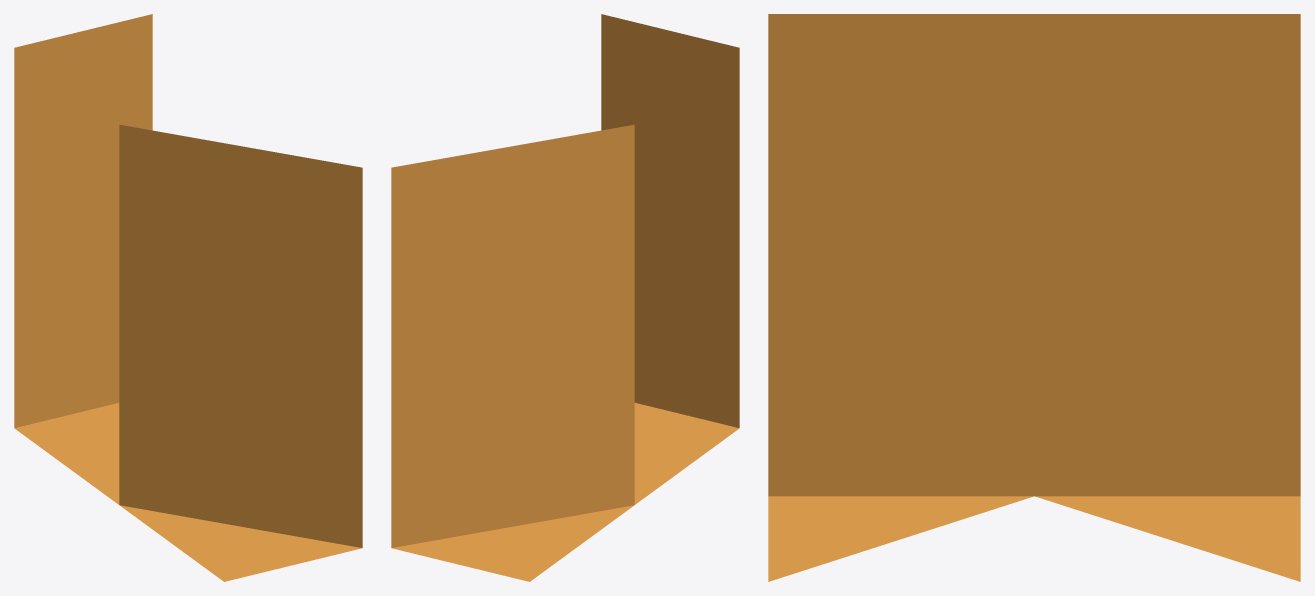
Rendered from r3c7_border_orange.gltf.
3 renders of one model, left to right at view 1: azimuth 30°, elevation 25°; view 2: azimuth 150°, elevation 25°; view 3: azimuth 270°, elevation 25°, orthographic. The views are drawn at different scales.
Parts seen in each view (by area): view 1: r3c7_border_orange; view 2: r3c7_border_orange; view 3: r3c7_border_orange.
Part boxes in pixels (x1,y1,x2,y2): r3c7_border_orange: (14, 14, 362, 581); r3c7_border_orange: (391, 14, 739, 581); r3c7_border_orange: (768, 14, 1300, 581).
Bounding box in the file's own units: 0.8 × 2.1 × 2.1.
Materials: 1 (1 with a texture image).
